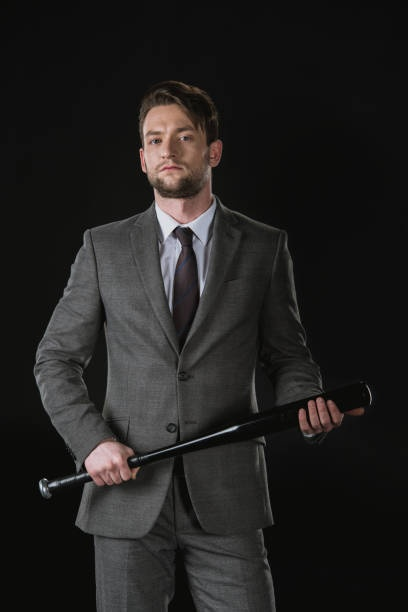bita: (36, 383, 361, 498)
